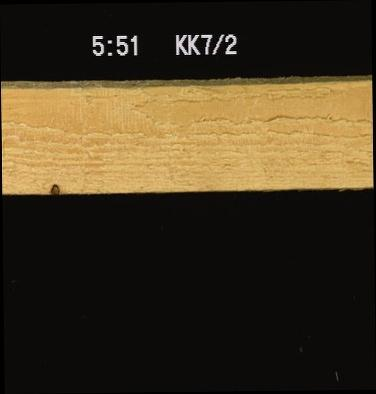edge_knot: (46, 181, 61, 197)
